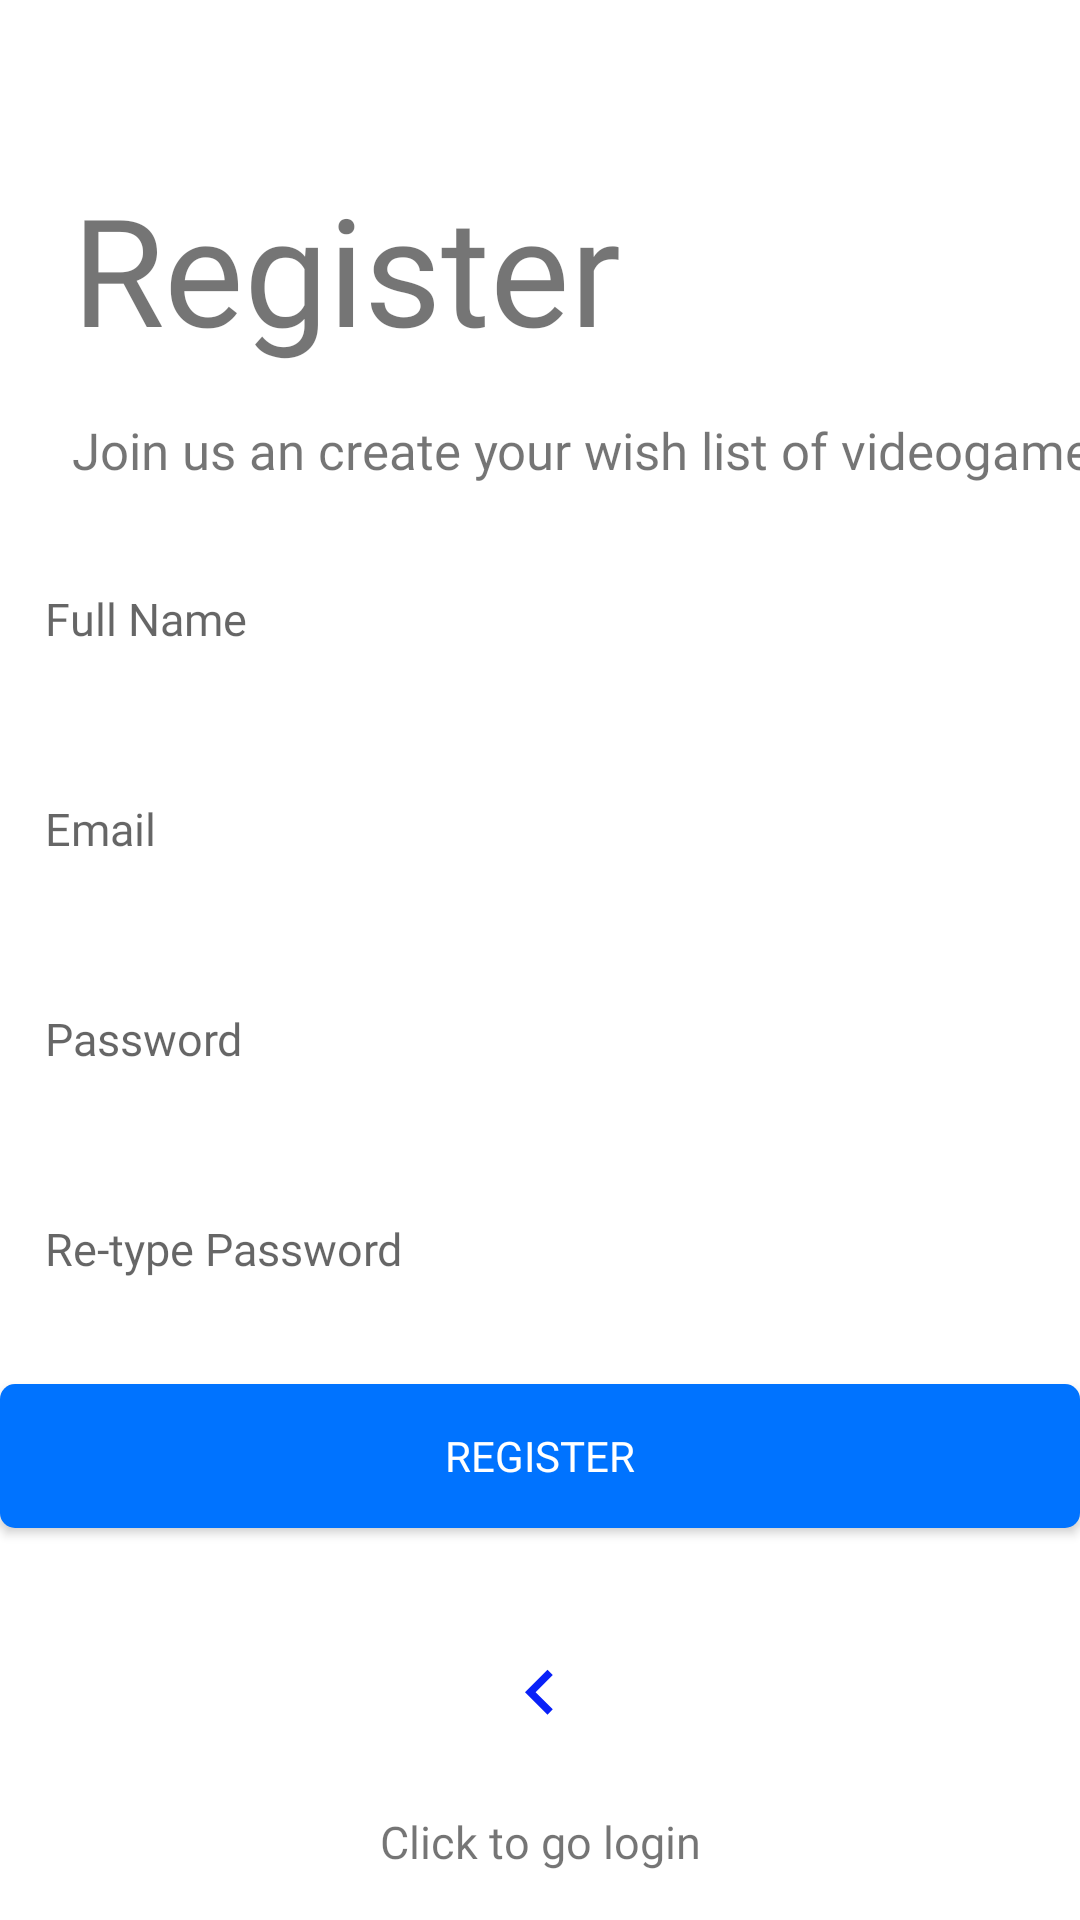

Icon click points for this 1080w x 1920h phone screenshot, format (x=x, y=y):
arrow left: (x=539, y=1692)
